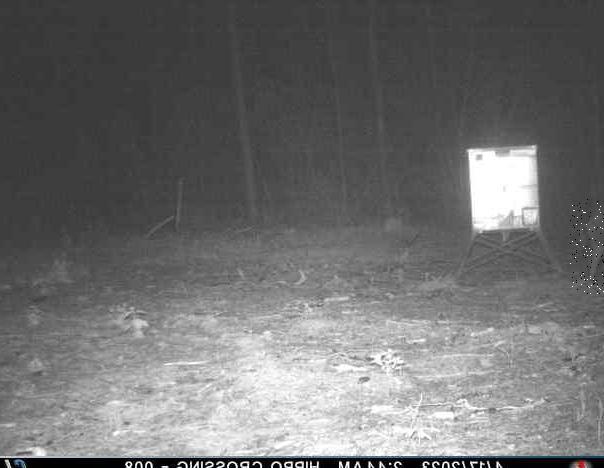Hog: (570, 199, 604, 294)
